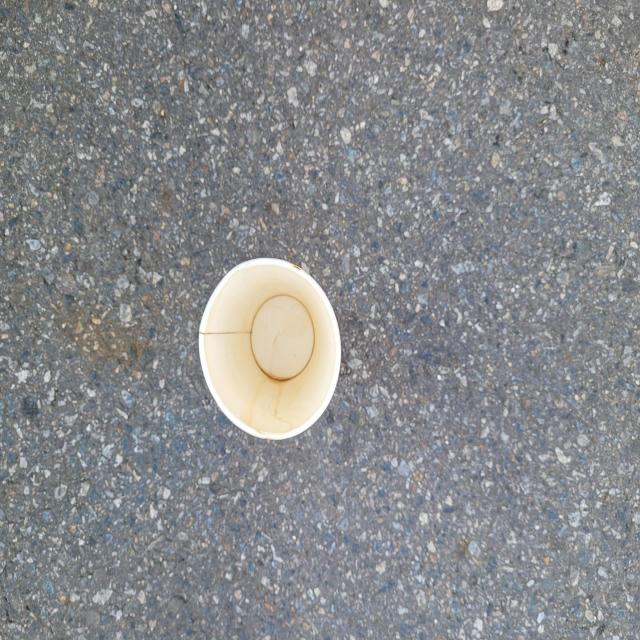paperpack: (199, 258, 341, 440)
